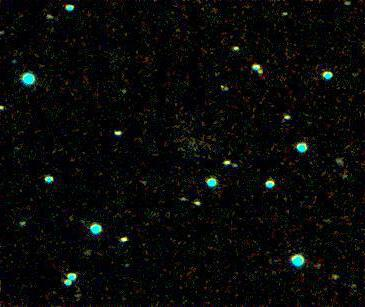star: (205, 71, 235, 101)
